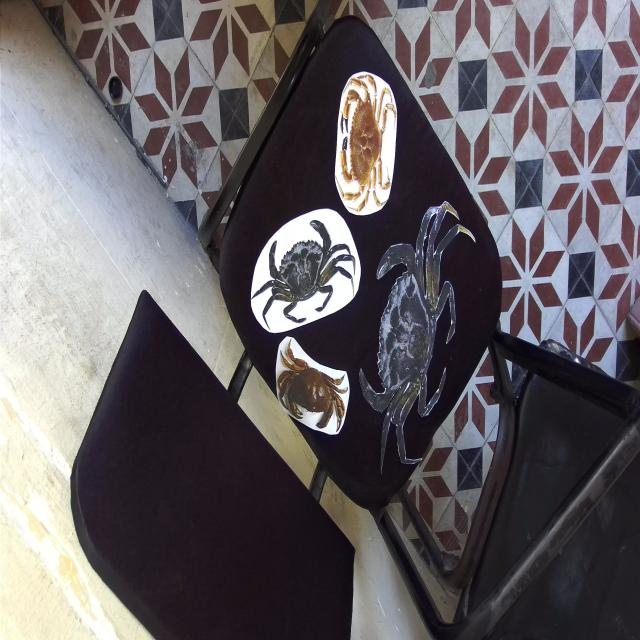European_Green_Crab: (339, 169, 480, 501), (244, 204, 361, 345)
